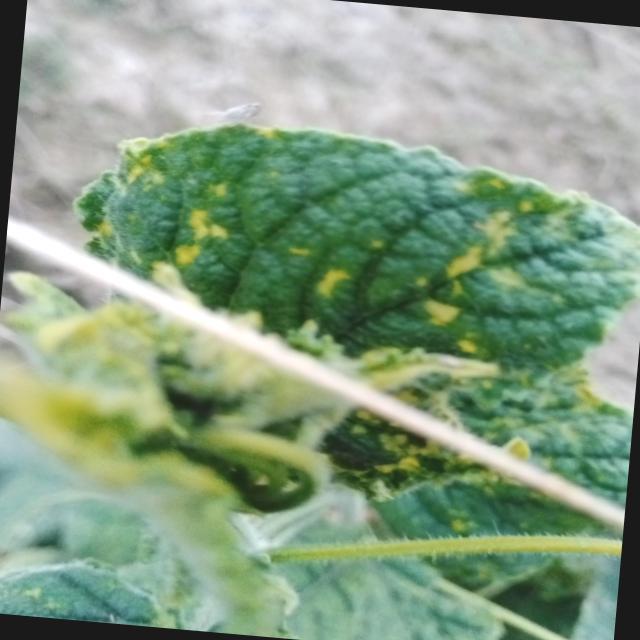cucumber_downy: (17, 81, 640, 556)
